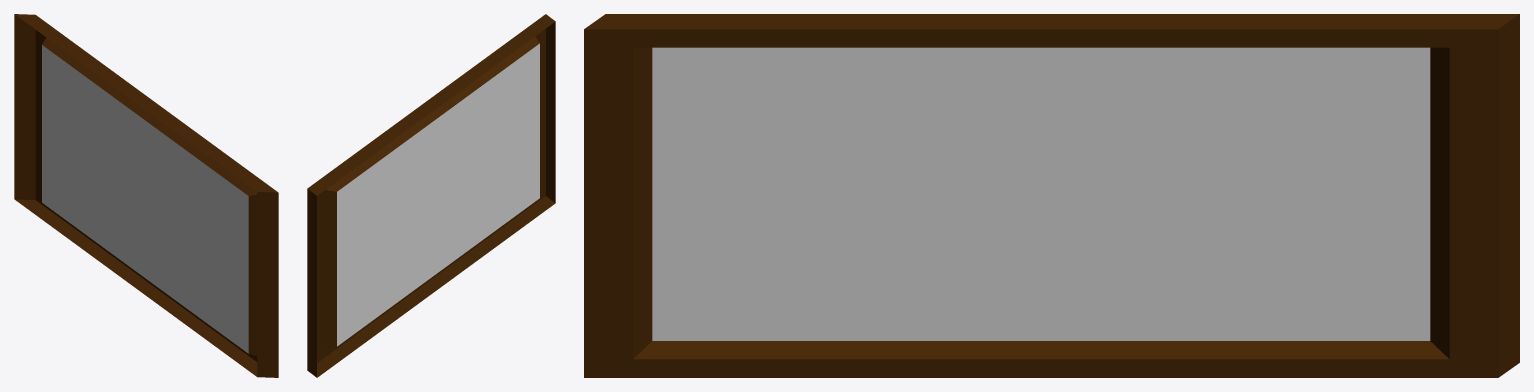
The model's file is Sky_Window_Model.fbx.
The picture shows the model from 3 angles, left to right: view 1: azimuth 30°, elevation 25°; view 2: azimuth 150°, elevation 25°; view 3: azimuth 270°, elevation 25°; orthographic projection. The views are drawn at different scales.
Visible parts, largest first — view 1: 26_Sky_Glass, 26_Sky_Frame.001; view 2: 26_Sky_Glass, 26_Sky_Frame.001; view 3: 26_Sky_Glass, 26_Sky_Frame.001.
Part boxes in pixels (<box>): 26_Sky_Glass: <box>42,45,248,353</box>; 26_Sky_Frame.001: <box>14,14,278,377</box>; 26_Sky_Glass: <box>337,43,539,346</box>; 26_Sky_Frame.001: <box>307,14,555,377</box>; 26_Sky_Glass: <box>652,47,1430,340</box>; 26_Sky_Frame.001: <box>584,14,1519,377</box>.
Bounding box in the file's own units: 458 × 189 × 16.66.
